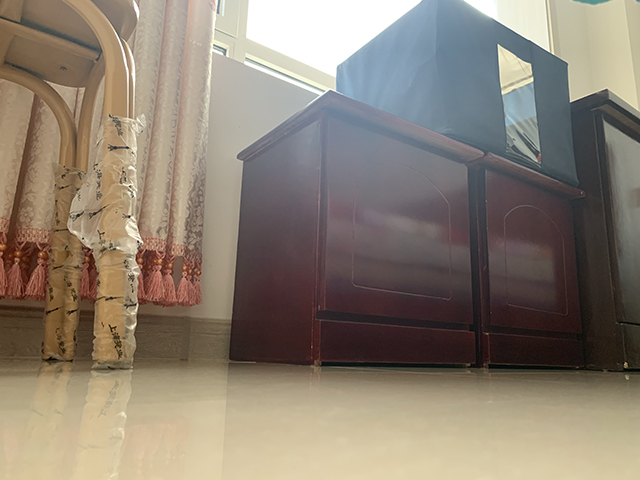cabinet: (225, 88, 588, 371), (571, 87, 640, 372)
curtain: (1, 1, 218, 310)
stool: (1, 1, 141, 371)
